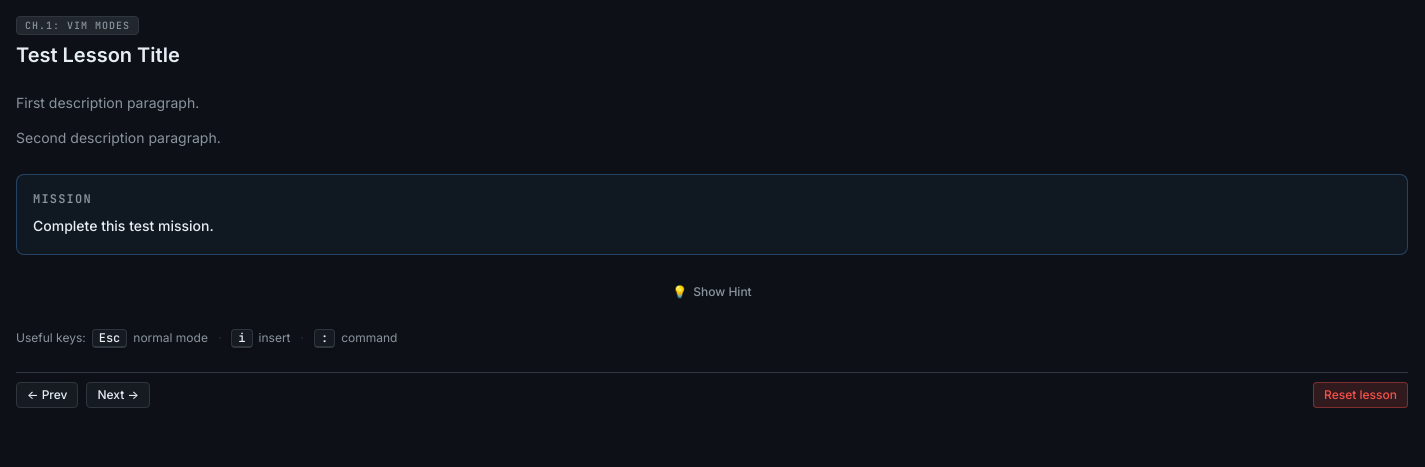
Test: LessonPanel › hint behavior › shows the hint text after clicking the hint button
Click the button with aria-label "reveal hint": [712, 292] box x1=16 y1=279 x2=1408 y2=305
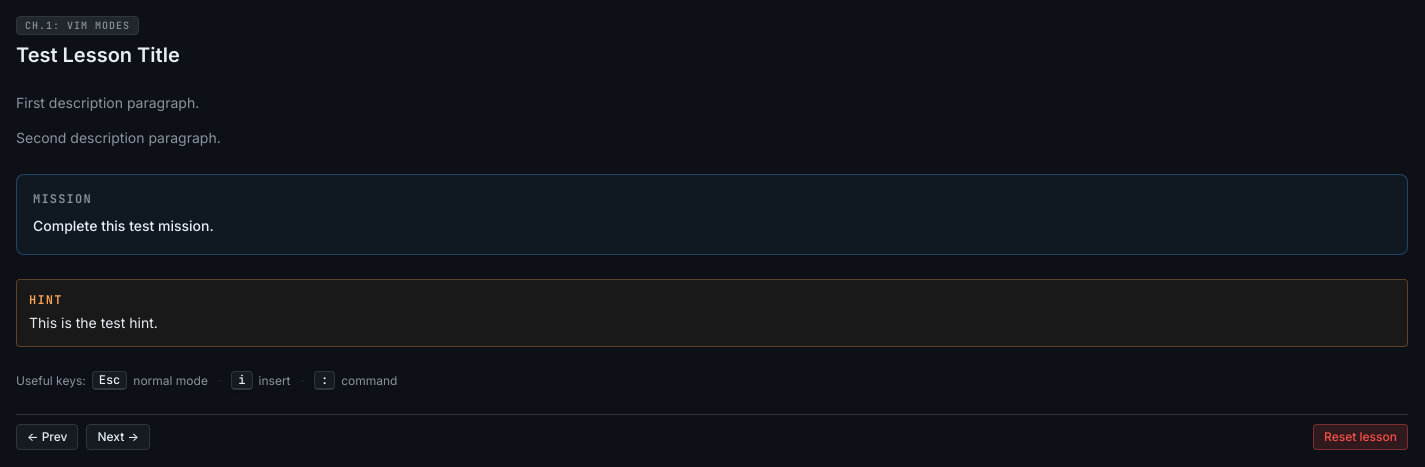
Now the text "This is the test hint." is shown, box x1=29 y1=314 x2=158 y2=331
